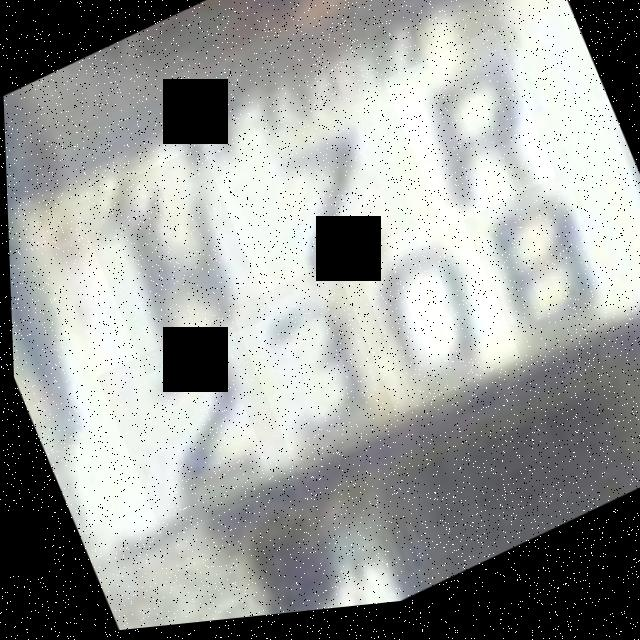0: (331, 211, 519, 429)
2: (93, 313, 297, 548)
3: (204, 255, 414, 490)
8: (444, 164, 631, 379)
H: (381, 34, 556, 243)
N: (73, 144, 270, 383)
Z: (219, 98, 420, 310)
